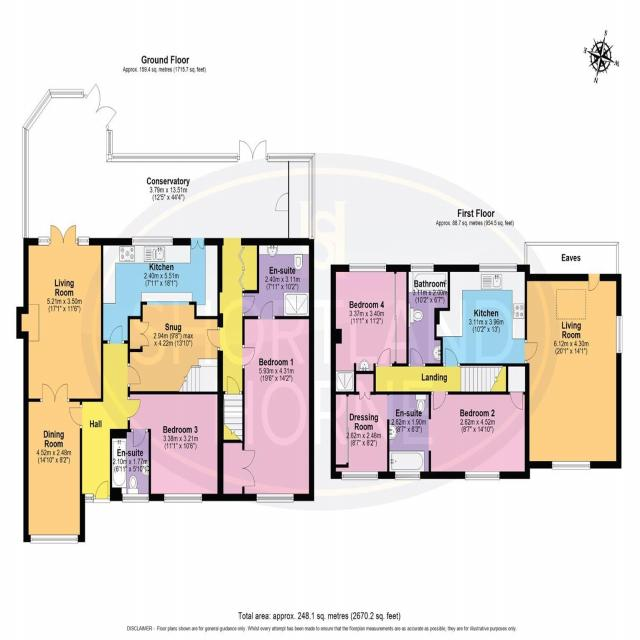DOOR: (93, 480, 111, 504), (206, 326, 223, 351), (127, 362, 141, 388), (242, 344, 256, 369), (127, 396, 141, 421), (375, 348, 393, 367), (408, 348, 426, 367), (131, 428, 148, 448), (525, 339, 538, 364), (242, 292, 255, 317), (69, 404, 82, 429), (431, 391, 448, 410), (443, 348, 460, 367), (258, 300, 275, 319), (107, 325, 124, 344), (587, 273, 601, 293)
DOUBLE DOOR: (40, 382, 70, 402), (50, 225, 77, 244), (190, 238, 205, 250)
ROOM: (217, 300, 314, 503), (524, 273, 623, 471), (16, 224, 104, 402), (127, 390, 224, 503), (434, 262, 538, 367), (330, 262, 409, 395), (23, 383, 85, 544), (428, 391, 530, 481)
WINDOW: (131, 235, 174, 247), (30, 534, 79, 544), (163, 492, 202, 504), (551, 460, 591, 471), (349, 262, 387, 273), (256, 492, 294, 503), (341, 471, 379, 481), (479, 262, 517, 272), (465, 471, 500, 481), (615, 314, 623, 354), (394, 470, 421, 481), (122, 493, 149, 503), (410, 262, 434, 273), (78, 236, 90, 246), (38, 236, 49, 246), (84, 493, 94, 503)
